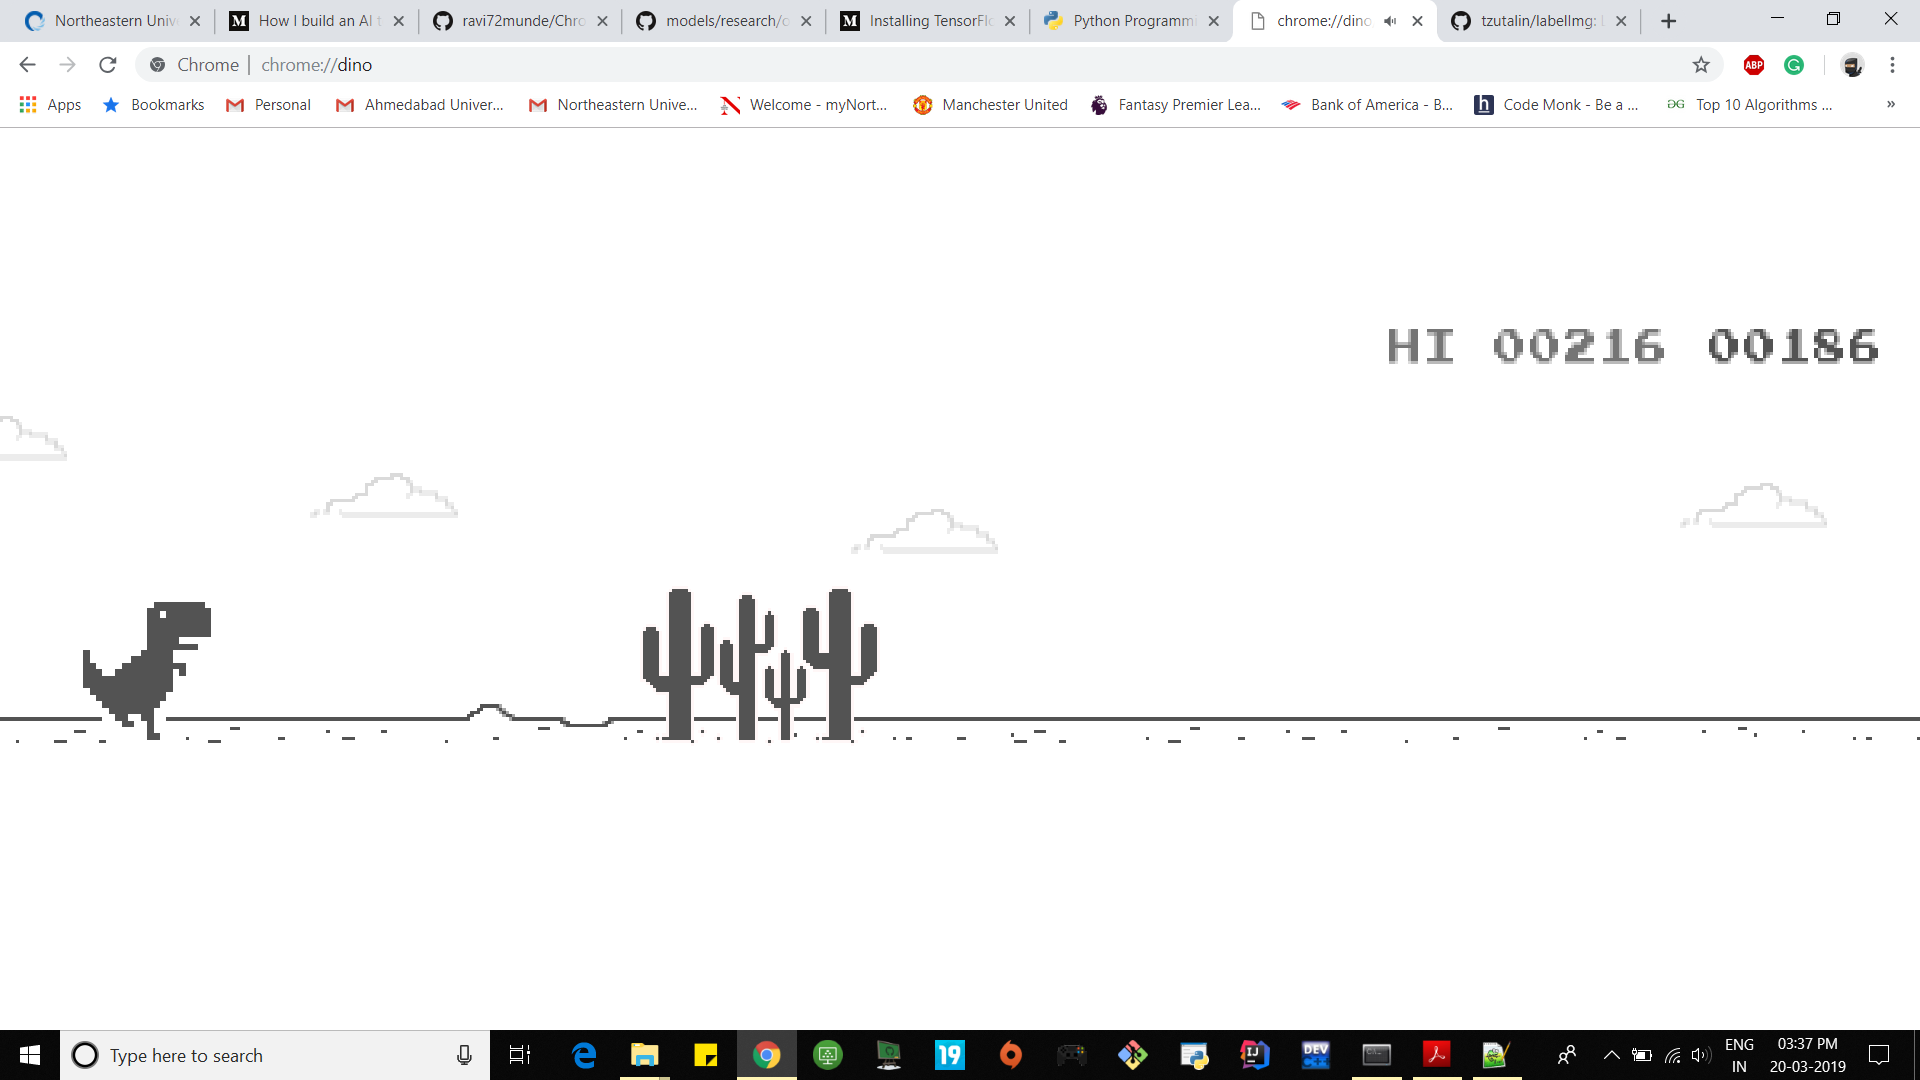cactus-4: (641, 588, 880, 744)
dino: (83, 601, 212, 742)
